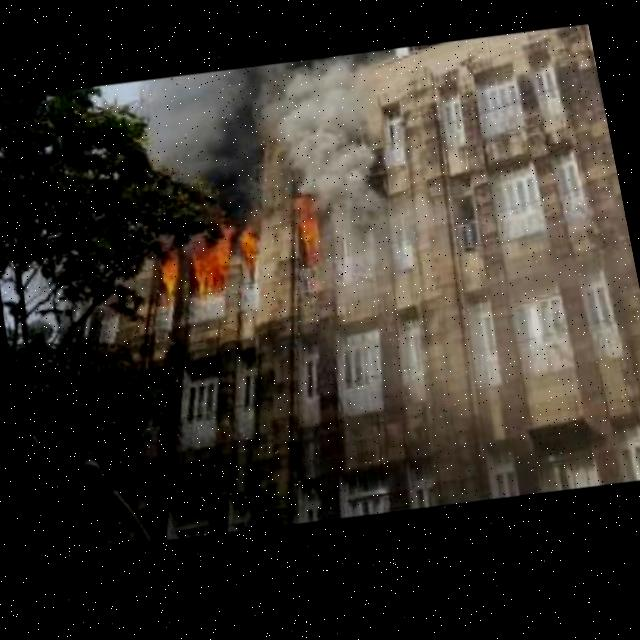fire: (140, 189, 276, 329), (270, 193, 328, 275)
